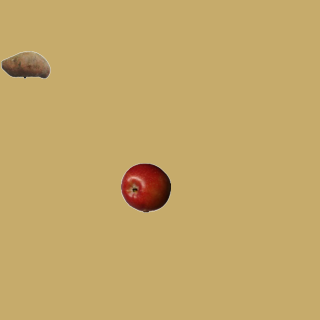Apple Braeburn: (120, 162, 170, 212)
Potato Sweet: (0, 39, 50, 89)
